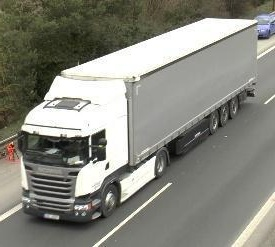truck: (18, 19, 258, 223)
